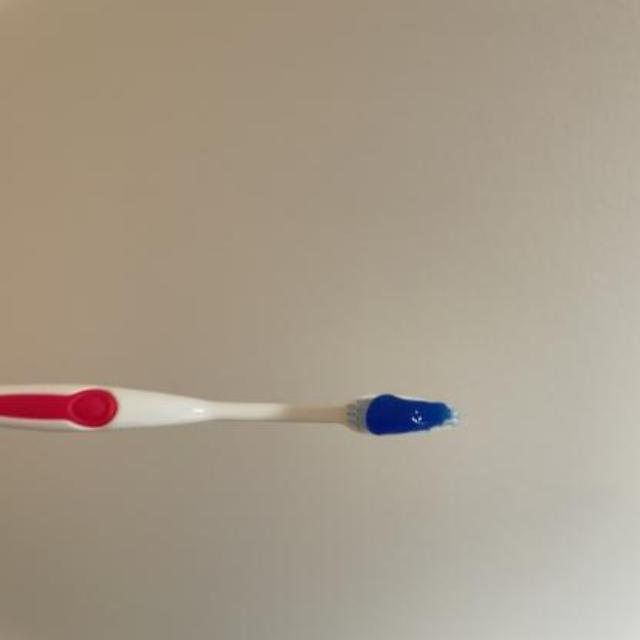toothbrush: (0, 376, 478, 442)
